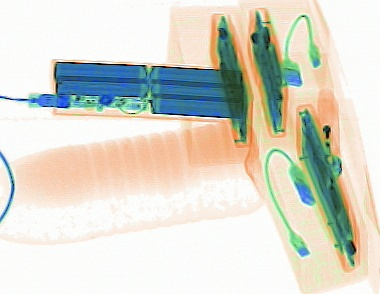lighter: (316, 84, 343, 180)
powerbank: (48, 56, 249, 125)
